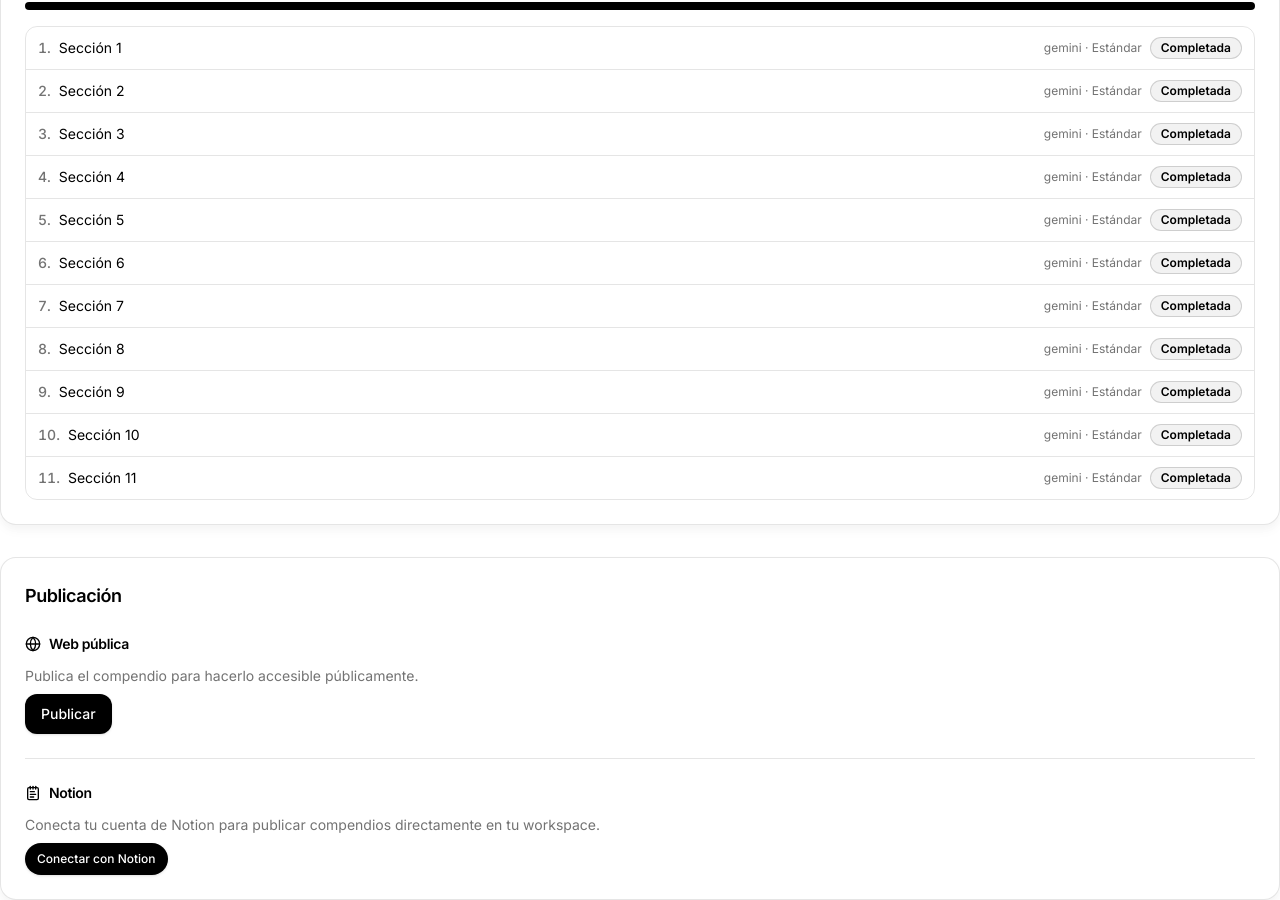
Test: PublishCard en ProjectDetailPage › al publicar muestra toast de éxito y links
The width and height of the screenshot is (1280, 900).
(page scrolled)
Click the button "Publicar" at (68, 714), box [25, 694, 112, 734]
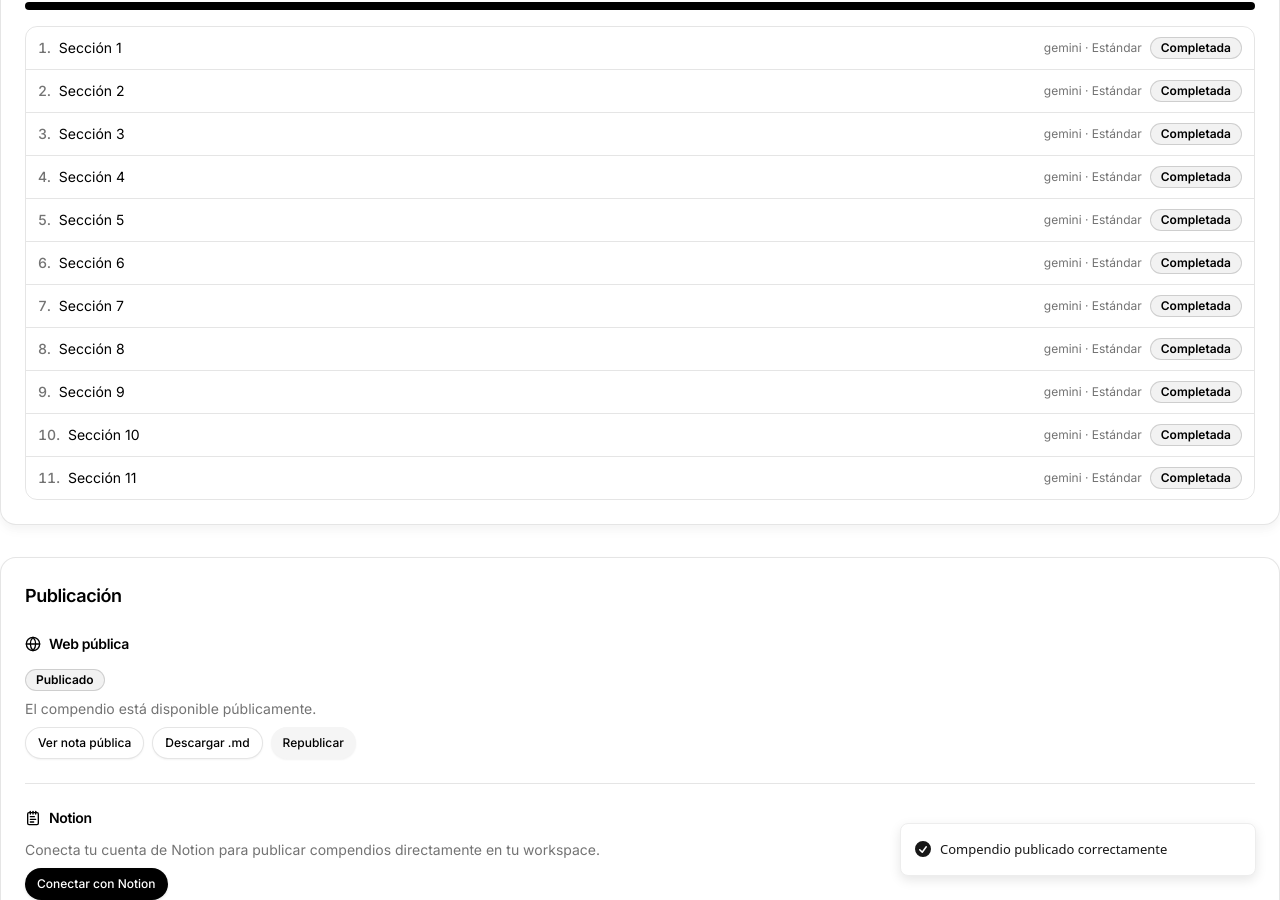
Expected: the text "Compendio publicado correctamente" is shown, [940, 840, 1167, 859]
Expected: the link "Ver nota pública" is shown, [25, 726, 144, 758]
Expected: the link "Descargar .md" is shown, [152, 726, 263, 758]
